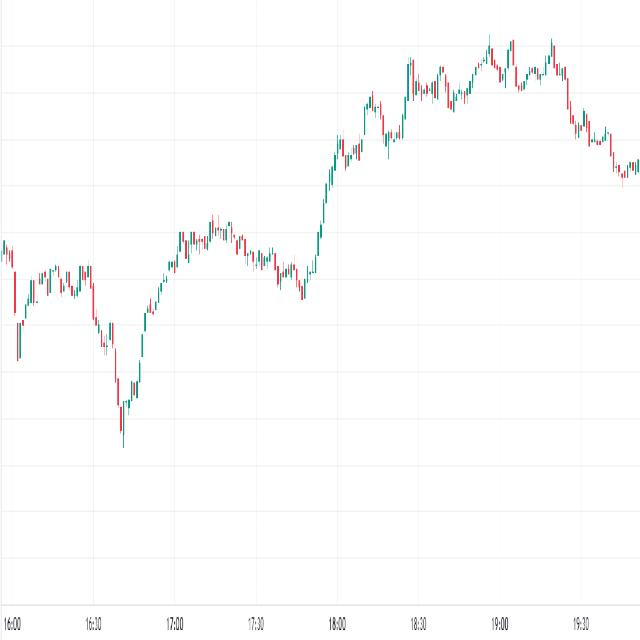Inverse-Head-Shoulders: (83, 205, 185, 468)
